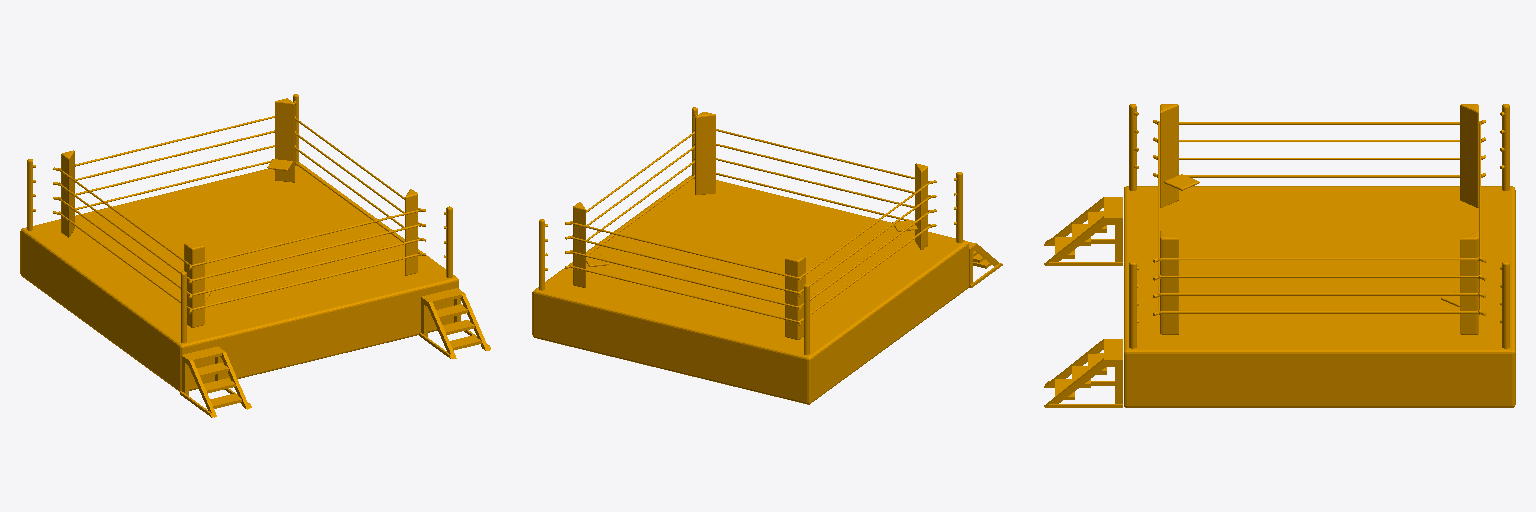
robot.urdf — boxing_ring.urdf:
<?xml version="1.0" ?>
<robot name="boxing_ring.urdf">
  <link name="baseLink">
    <inertial>
      <origin rpy="0 0 0" xyz="0 0 0"/>
       <mass value="10.0"/>
       <inertia ixx="0" ixy="0" ixz="0" iyy="0" iyz="0" izz="0"/>
    </inertial>
    <visual>
      <origin rpy="1.57079 0 0" xyz="0 -0.6 0"/>
      <geometry>
        <mesh filename="phc/data/assets/mesh/boxing_ring.obj" scale="0.01 0.01 0.01"/>
      </geometry>
    </visual>

    <collision>
      <origin rpy="0 0 0" xyz="0 0 0.5"/>
      <geometry>
        <box size="5 5 1" />
      </geometry>
    </collision>
  </link>

  <link name="wall1">
    <inertial>
      <origin rpy="0 0 0" xyz="0 0 0"/>
       <mass value="10.0"/>
       <inertia ixx="0" ixy="0" ixz="0" iyy="0" iyz="0" izz="0"/>
    </inertial>
    <collision>
      <origin rpy="0 0 0" xyz="0.0 0 0"/>
      <geometry>
        <box size="0.05 5 1.4" />
      </geometry>
    </collision>
  </link>

  <joint name="joint_wall1" type="fixed">
    <origin rpy="0 0 0" xyz="2.5 0 1.65"/>
    <parent link="baseLink"/>
    <child link="wall1"/>
    <axis xyz="0 0 0"/>
  </joint>

  <link name="wall2">
    <inertial>
      <origin rpy="0 0 0" xyz="0 0 0"/>
       <mass value="10.0"/>
       <inertia ixx="0" ixy="0" ixz="0" iyy="0" iyz="0" izz="0"/>
    </inertial>
    <collision>
      <origin rpy="0 0 0" xyz="0.0 0 0"/>
      <geometry>
        <box size="0.05 5 1.4" />
      </geometry>
    </collision>
  </link>

  <joint name="joint_wall2" type="fixed">
    <origin rpy="0 0 0" xyz="-2.5 0 1.65"/>
    <parent link="baseLink"/>
    <child link="wall2"/>
    <axis xyz="0 0 0"/>
  </joint>

  <link name="wall3">
    <inertial>
      <origin rpy="0 0 0" xyz="0 0 0"/>
       <mass value="10.0"/>
       <inertia ixx="0" ixy="0" ixz="0" iyy="0" iyz="0" izz="0"/>
    </inertial>
    <collision>
      <origin rpy="0 0 0" xyz="0.0 0 0"/>
      <geometry>
        <box size="5 0.05 1.4" />
      </geometry>
    </collision>
  </link>

  <joint name="joint_wall3" type="fixed">
    <origin rpy="0 0 0" xyz="0 -2.5 1.65"/>
    <parent link="baseLink"/>
    <child link="wall3"/>
    <axis xyz="0 0 0"/>
  </joint>

  <link name="wall4">
    <inertial>
      <origin rpy="0 0 0" xyz="0 0 0"/>
       <mass value="10.0"/>
       <inertia ixx="0" ixy="0" ixz="0" iyy="0" iyz="0" izz="0"/>
    </inertial>
    <collision>
      <origin rpy="0 0 0" xyz="0.0 0 0"/>
      <geometry>
        <box size="5 0.05 1.4" />
      </geometry>
    </collision>
  </link>

  <joint name="joint_wall4" type="fixed">
    <origin rpy="0 0 0" xyz="0 2.5 1.65"/>
    <parent link="baseLink"/>
    <child link="wall4"/>
    <axis xyz="0 0 0"/>
  </joint>

</robot>

--- What the picture shows (computed from the rendered views, not written in the file) ---
Views: 3 orthographic renders of the robot side by side, from view 1: azimuth 30°, elevation 25°; view 2: azimuth 150°, elevation 25°; view 3: azimuth 270°, elevation 25°.
Robot: boxing_ring.urdf — 5 links, 4 joints (4 fixed); root link baseLink; default pose: every joint at zero.
Visible links, largest first — view 1: baseLink; view 2: baseLink; view 3: baseLink.
Link boxes in pixels (x1,y1,x2,y2): baseLink: (20, 94, 490, 417); baseLink: (532, 107, 1002, 404); baseLink: (1044, 104, 1515, 407).
Size in the robot's own frame: 6.13 by 7.33 by 2.67 metres.
Meshes: 1 distinct files referenced, 1 mesh visuals loaded (1 OBJ).